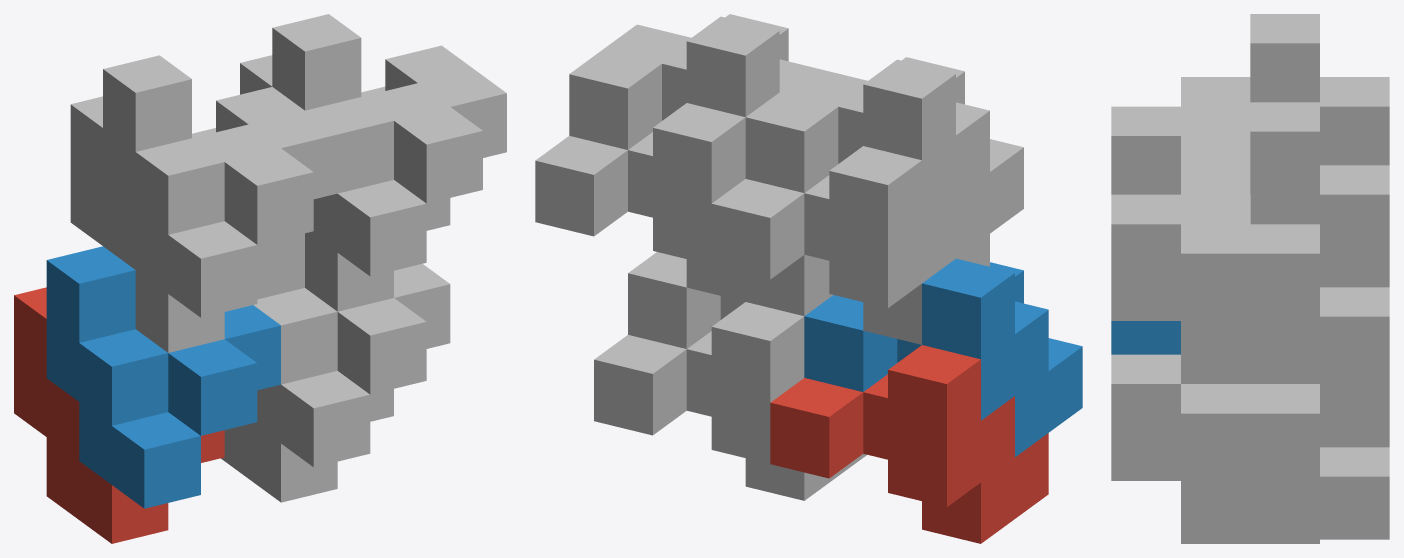
File: tiling.obj
3 renders of one model, left to right at view 1: azimuth 30°, elevation 25°; view 2: azimuth 150°, elevation 25°; view 3: azimuth 270°, elevation 25°, orthographic. The views are drawn at different scales.
Visible parts, largest first — view 1: copy_1_domain_4, copy_1_domain_8, copy_1_domain_2, copy_1_domain_6, copy_1_domain_1, copy_1_domain_3, copy_1_domain_7, copy_1_domain_5; view 2: copy_1_domain_1, copy_1_domain_4, copy_1_domain_3, copy_1_domain_2, copy_1_domain_5, copy_1_domain_7, copy_1_domain_8, copy_1_domain_6; view 3: copy_1_domain_8, copy_1_domain_7, copy_1_domain_6, copy_1_domain_5, copy_1_domain_4, copy_1_domain_3, copy_1_domain_2.
Boxes of the visible parts, left/top/right/bottom form: copy_1_domain_4: left=103, top=55, right=337, bottom=317; copy_1_domain_8: left=272, top=14, right=506, bottom=276; copy_1_domain_2: left=46, top=246, right=280, bottom=508; copy_1_domain_6: left=253, top=233, right=450, bottom=467; copy_1_domain_1: left=14, top=287, right=224, bottom=543; copy_1_domain_3: left=70, top=96, right=280, bottom=352; copy_1_domain_7: left=240, top=55, right=450, bottom=311; copy_1_domain_5: left=221, top=389, right=393, bottom=502; copy_1_domain_1: left=770, top=345, right=1048, bottom=543; copy_1_domain_4: left=745, top=57, right=1023, bottom=258; copy_1_domain_3: left=711, top=146, right=989, bottom=344; copy_1_domain_2: left=804, top=258, right=1082, bottom=456; copy_1_domain_5: left=594, top=302, right=866, bottom=500; copy_1_domain_7: left=535, top=103, right=745, bottom=301; copy_1_domain_8: left=569, top=14, right=813, bottom=149; copy_1_domain_6: left=628, top=252, right=832, bottom=348; copy_1_domain_8: left=1111, top=102, right=1319, bottom=320; copy_1_domain_7: left=1181, top=165, right=1389, bottom=383; copy_1_domain_6: left=1111, top=354, right=1319, bottom=480; copy_1_domain_5: left=1181, top=380, right=1389, bottom=543; copy_1_domain_4: left=1111, top=14, right=1319, bottom=194; copy_1_domain_3: left=1320, top=77, right=1389, bottom=165; copy_1_domain_2: left=1111, top=321, right=1180, bottom=354.
Bounding box in the file's own units: 7 × 7 × 4.
